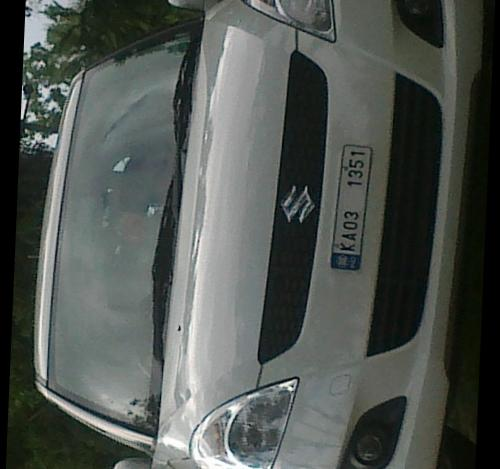plate: (327, 128, 379, 272)
